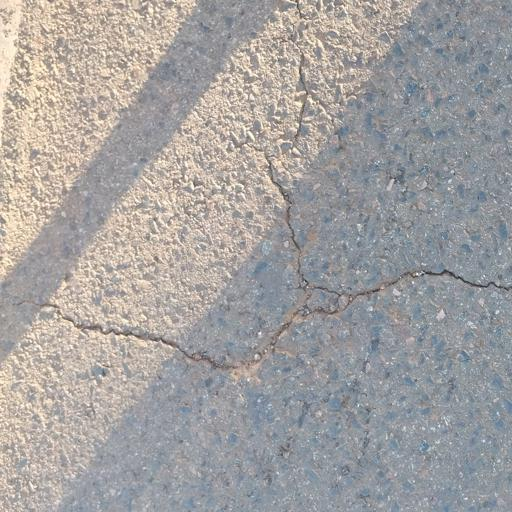GRIETA: (28, 301, 298, 370), (300, 269, 511, 315), (264, 153, 308, 289), (292, 48, 308, 148)
